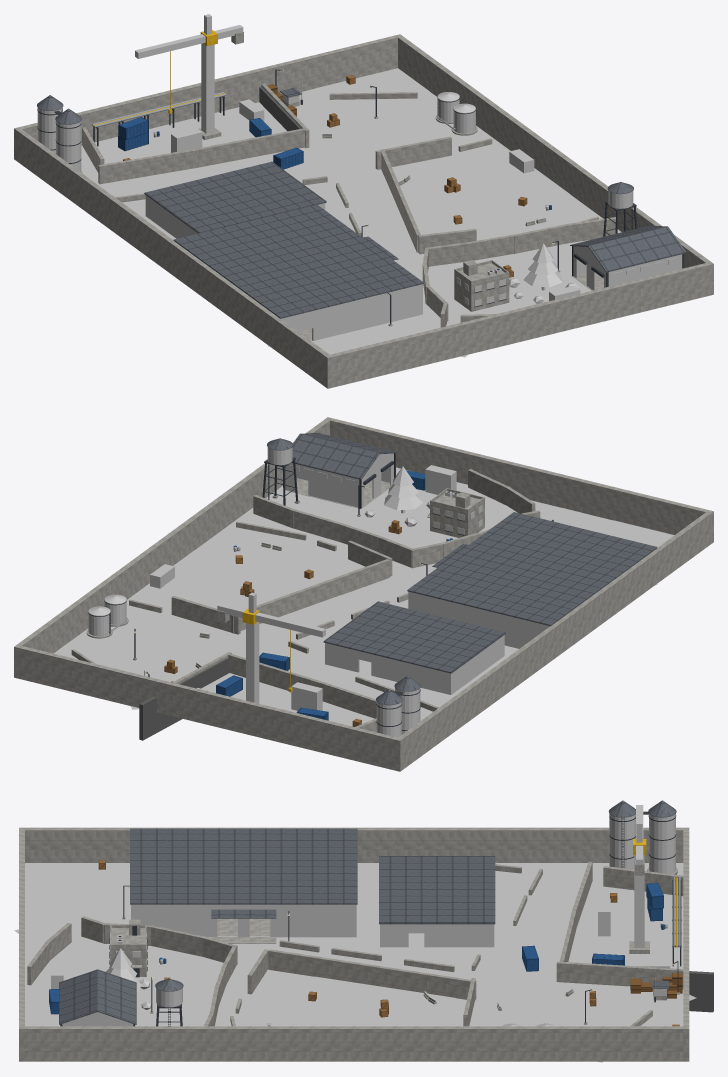
3 views of the same model, one above another, from view 1: azimuth 30°, elevation 25°; view 2: azimuth 150°, elevation 25°; view 3: azimuth 270°, elevation 25° (orthographic). The views are drawn at different scales.
Parts seen in each view (by area): view 1: Wall_Concrete, Add_Ceiling, Ground_Sand, Site_Tiles, Add_Metal_Light, Add_Brick, Ground_Grass, Add_Concrete, Road_Asphalt, Crane_Lattice, Add_Metal_Dark, Tree_Leaves (+9 smaller); view 2: Wall_Concrete, Add_Ceiling, Ground_Sand, Site_Tiles, Add_Brick, Add_Metal_Light, Ground_Grass, Add_Concrete, Crane_Lattice, Cube.003, Add_Metal_Dark, Road_Asphalt (+9 smaller); view 3: Wall_Concrete, Ground_Sand, Add_Ceiling, Add_Brick, Site_Tiles, Ground_Grass, Add_Metal_Light, Road_Asphalt, Add_Concrete, CTSpawn_Tiles, Add_Metal_Roof, Add_Metal_Dark (+10 smaller).
Part boxes in pixels (<box>): Wall_Concrete: <box>14,31,713,388</box>; Add_Ceiling: <box>144,161,686,318</box>; Ground_Sand: <box>81,88,621,351</box>; Site_Tiles: <box>368,159,570,240</box>; Add_Metal_Light: <box>37,92,682,290</box>; Add_Brick: <box>145,195,422,340</box>; Ground_Grass: <box>438,246,591,319</box>; Add_Concrete: <box>81,94,603,340</box>; Road_Asphalt: <box>267,95,468,357</box>; Crane_Lattice: <box>135,14,243,133</box>; Add_Metal_Dark: <box>37,69,684,324</box>; Tree_Leaves: <box>509,243,579,303</box>; Wall_Concrete: <box>14,417,713,771</box>; Add_Ceiling: <box>291,433,657,673</box>; Ground_Sand: <box>54,467,612,726</box>; Site_Tiles: <box>164,543,371,673</box>; Add_Brick: <box>325,591,549,694</box>; Add_Metal_Light: <box>88,447,458,737</box>; Ground_Grass: <box>272,467,516,548</box>; Add_Concrete: <box>86,479,484,668</box>; Crane_Lattice: <box>217,592,325,703</box>; Cube.003: <box>139,657,229,740</box>; Add_Metal_Dark: <box>88,453,553,730</box>; Road_Asphalt: <box>59,507,657,709</box>; Wall_Concrete: <box>19,827,689,1061</box>; Ground_Sand: <box>25,863,683,1026</box>; Add_Ceiling: <box>59,828,495,1024</box>; Add_Brick: <box>131,904,494,947</box>; Site_Tiles: <box>248,933,463,1026</box>; Ground_Grass: <box>25,948,218,1026</box>; Add_Metal_Light: <box>62,813,675,1026</box>; Road_Asphalt: <box>14,875,696,1062</box>; Add_Concrete: <box>60,867,679,1026</box>; CTSpawn_Tiles: <box>25,863,113,911</box>; Add_Metal_Roof: <box>155,800,676,991</box>; Add_Metal_Dark: <box>60,811,681,1026</box>.
Bounding box in the file's own units: 92.65 × 31.64 × 135.
